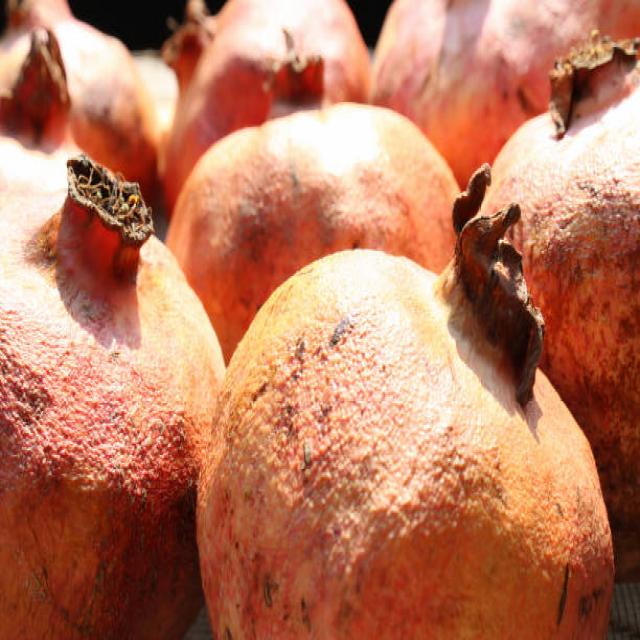overripe: (197, 157, 616, 640), (0, 135, 226, 638)
